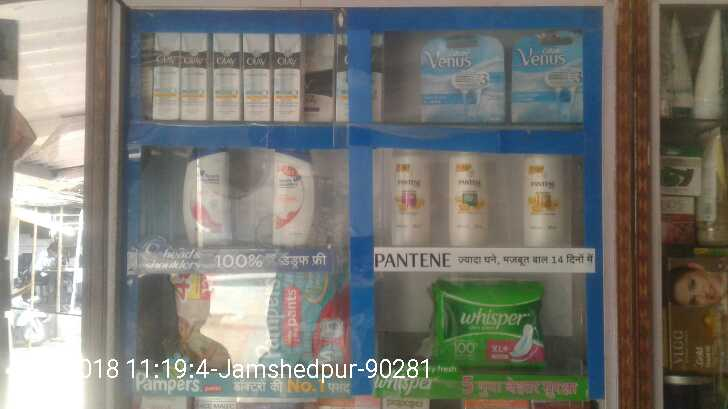venus: (419, 35, 507, 123), (512, 30, 584, 123)
